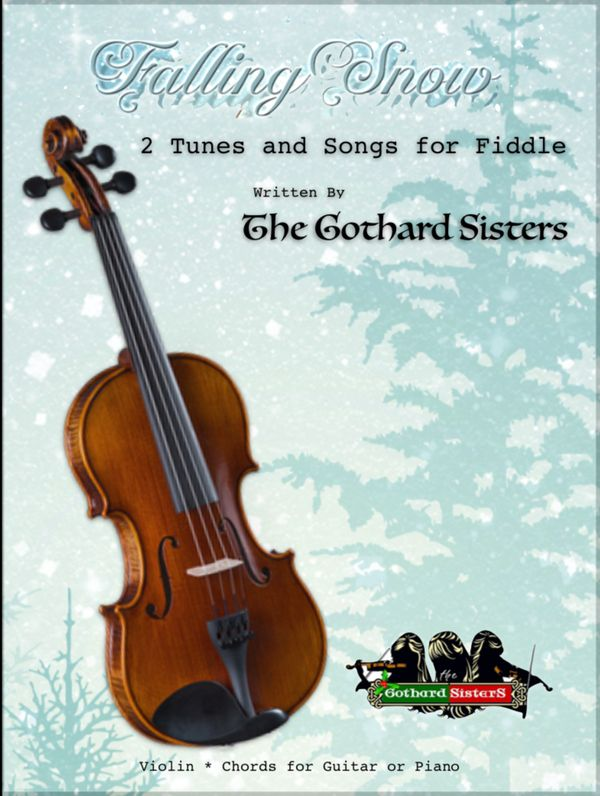Fiddle: (18, 116, 334, 729)
